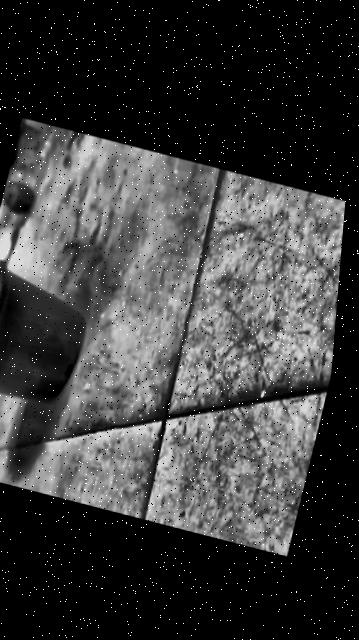pot: (0, 257, 94, 417)
